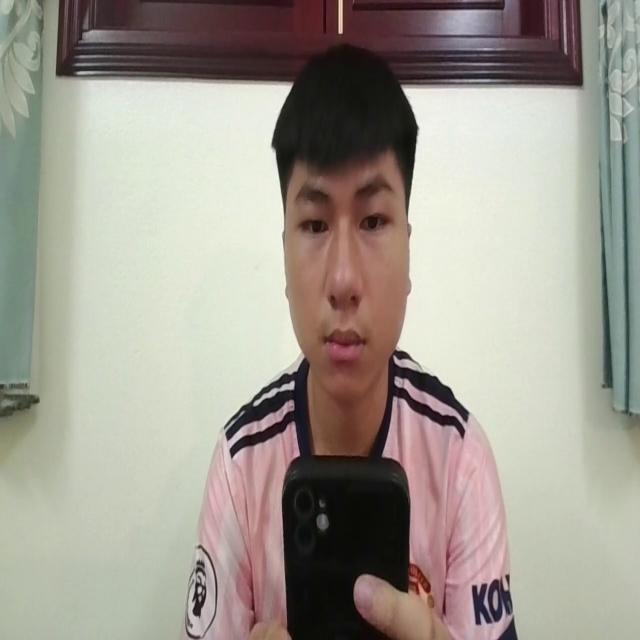phone: (280, 443, 416, 640)
student: (193, 37, 511, 640)
